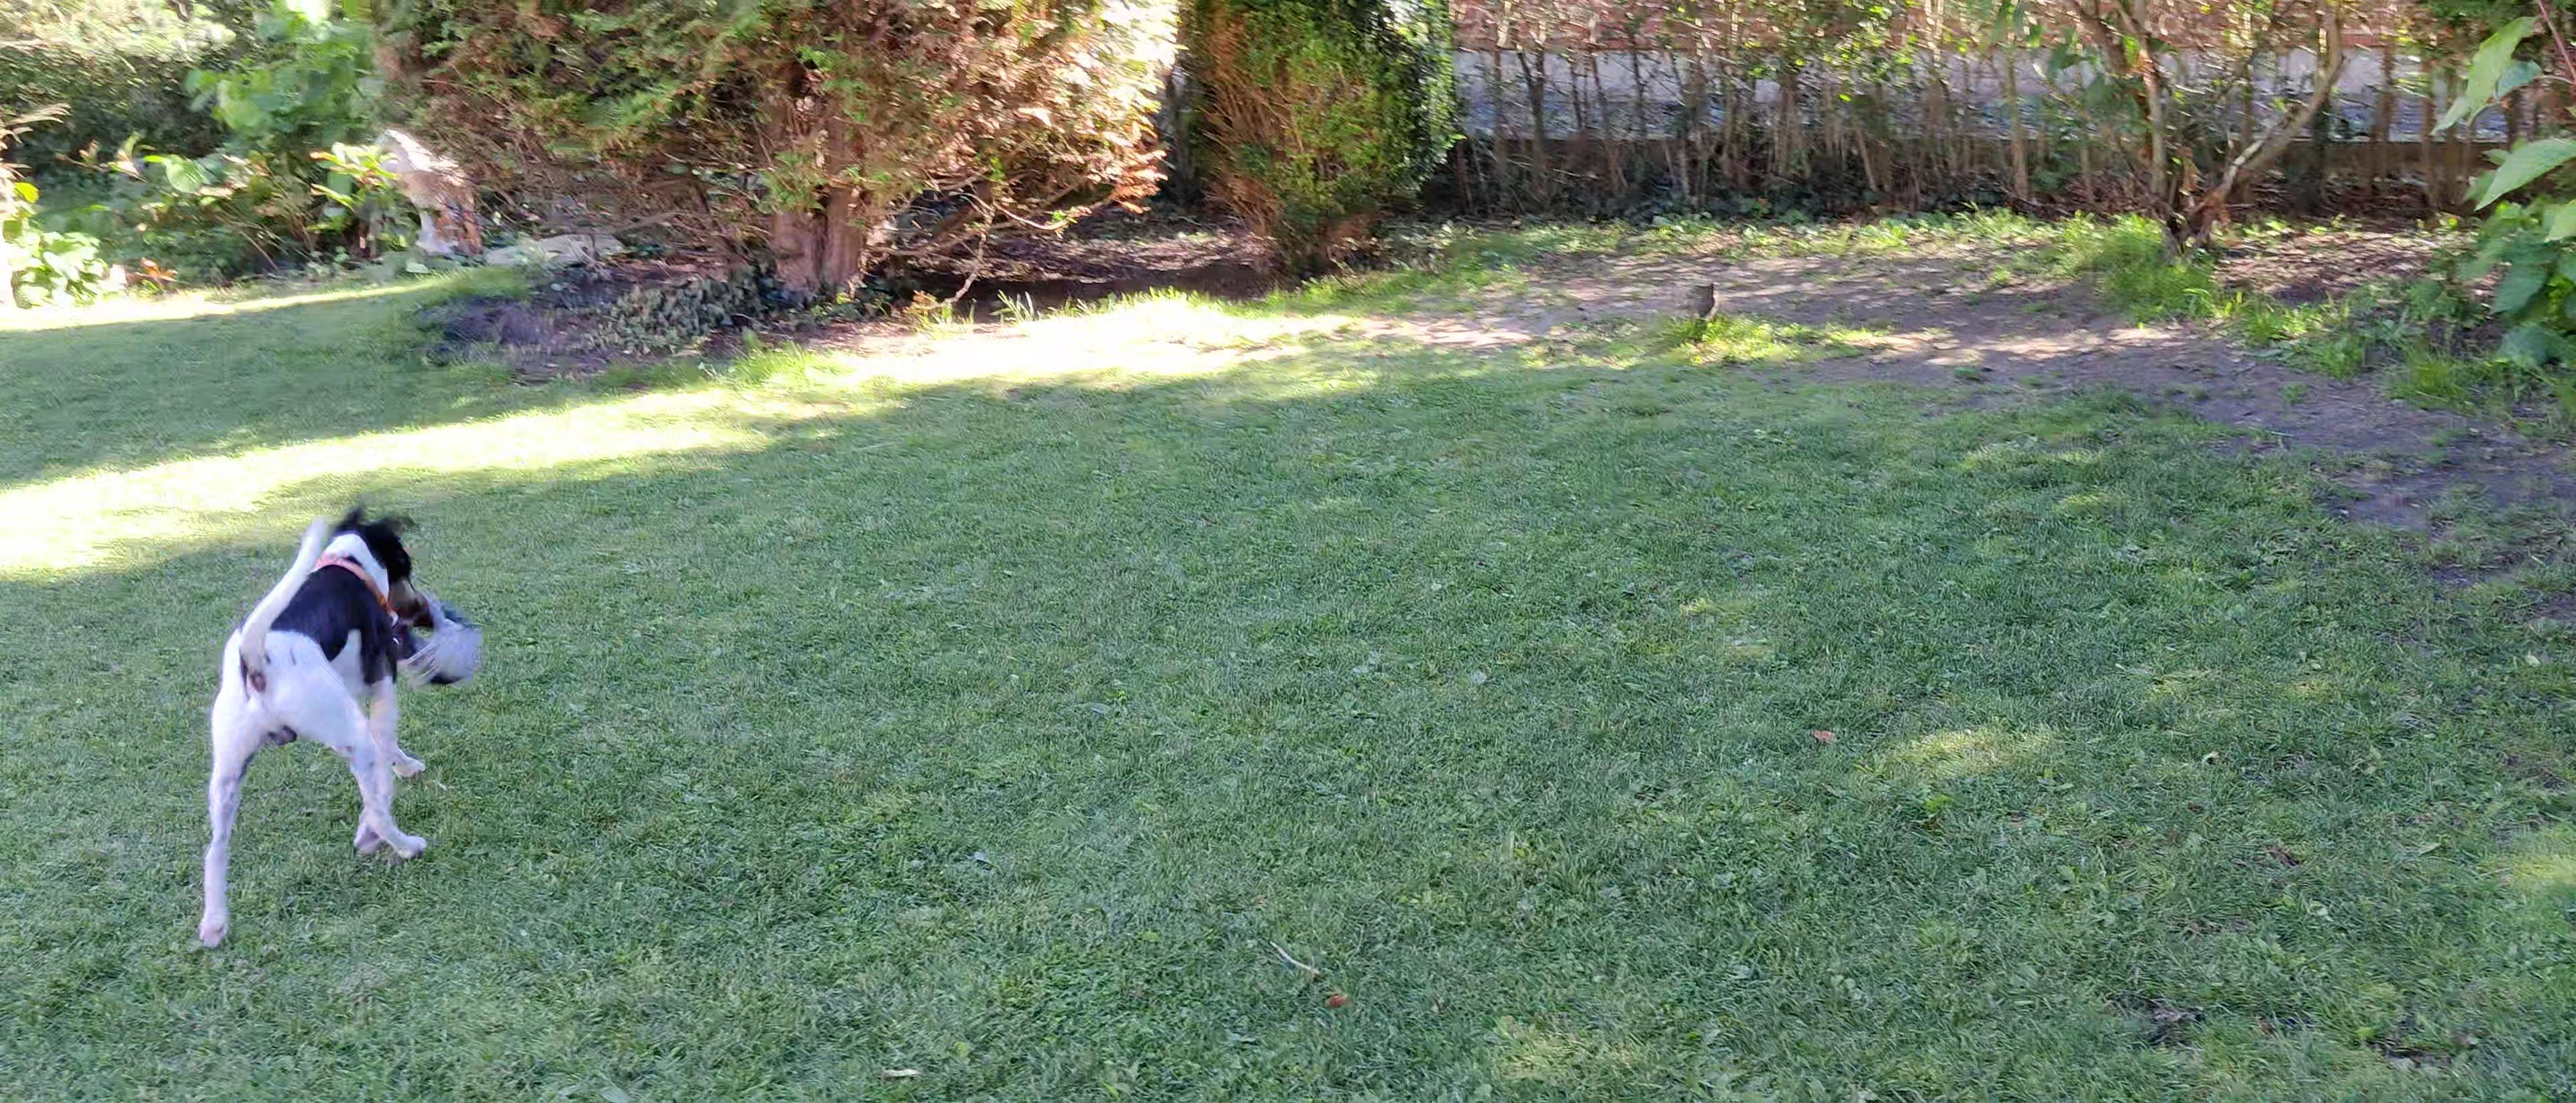Dog: (161, 496, 453, 962)
